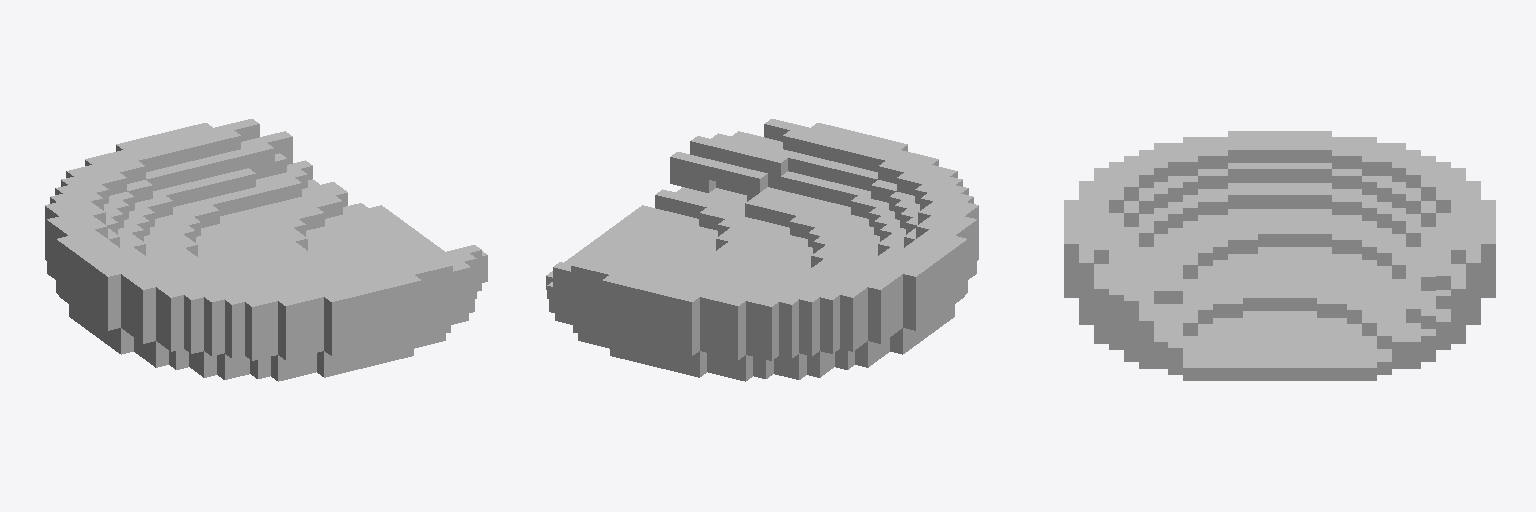
File: Cama gato.obj
3 views of the same model, side by side, from view 1: azimuth 30°, elevation 25°; view 2: azimuth 150°, elevation 25°; view 3: azimuth 270°, elevation 25° (orthographic).
Visible parts, largest first — view 1: object 1; view 2: object 1; view 3: object 1.
Boxes of the visible parts, x1,y1,x2,y2 form: object 1: [45, 119, 487, 381]; object 1: [546, 119, 978, 381]; object 1: [1064, 131, 1495, 380].
Bounding box in the file's own units: 2.7 × 0.6 × 2.9.